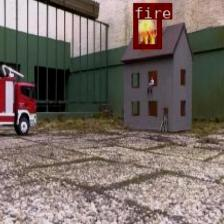fire: (132, 2, 161, 48)
